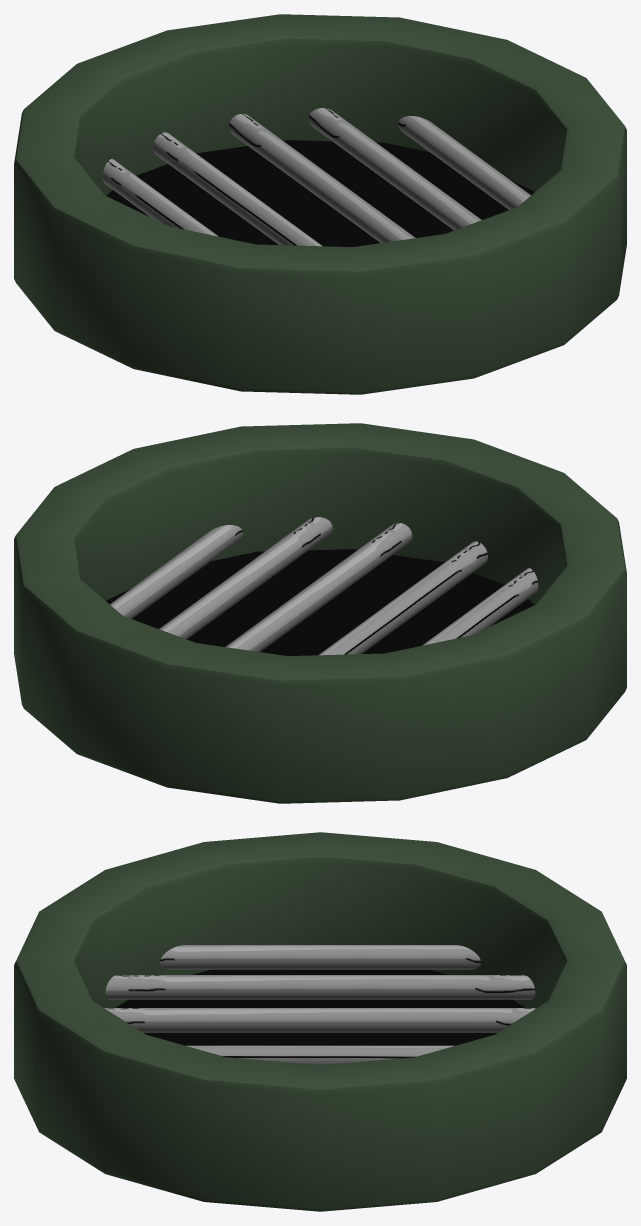
Rendered from Grate.fbx.
The picture shows the model from 3 angles, top to bottom: view 1: azimuth 30°, elevation 25°; view 2: azimuth 150°, elevation 25°; view 3: azimuth 270°, elevation 25°; orthographic projection.
Visible parts, largest first — view 1: Grate; view 2: Grate; view 3: Grate.
Part boxes in pixels (left/top/right/bottom): Grate: left=14, top=14, right=626, bottom=394; Grate: left=14, top=423, right=626, bottom=803; Grate: left=14, top=832, right=626, bottom=1211.
Bounding box in the file's own units: 200 × 45.29 × 200.
